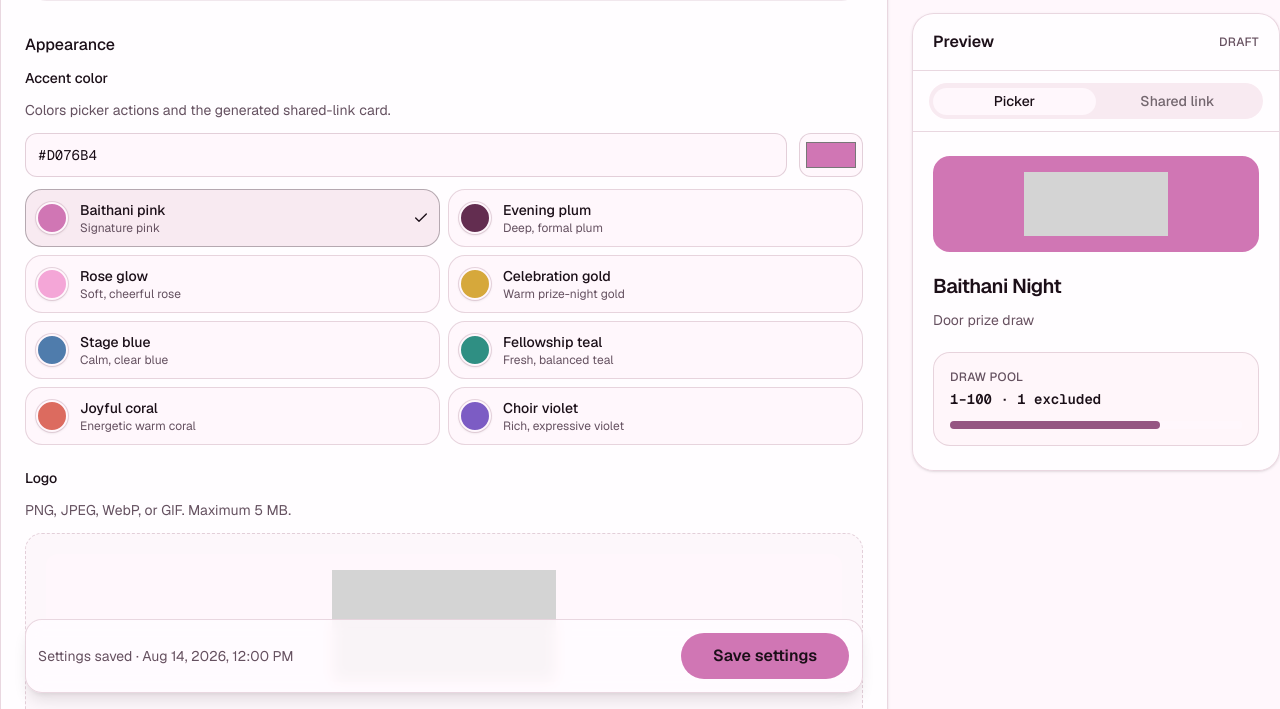
Scenario: SettingsForm appearance presets › offers named color advice and marks a selected preset as active
The image size is (1280, 709).
(page scrolled)
Expected: the text "Calm, clear blue" is shown, [80, 352, 168, 368]
Click the button with aria-label "Use Stage blue (#4f7cac) accent color" at [52, 350], box [25, 321, 440, 379]
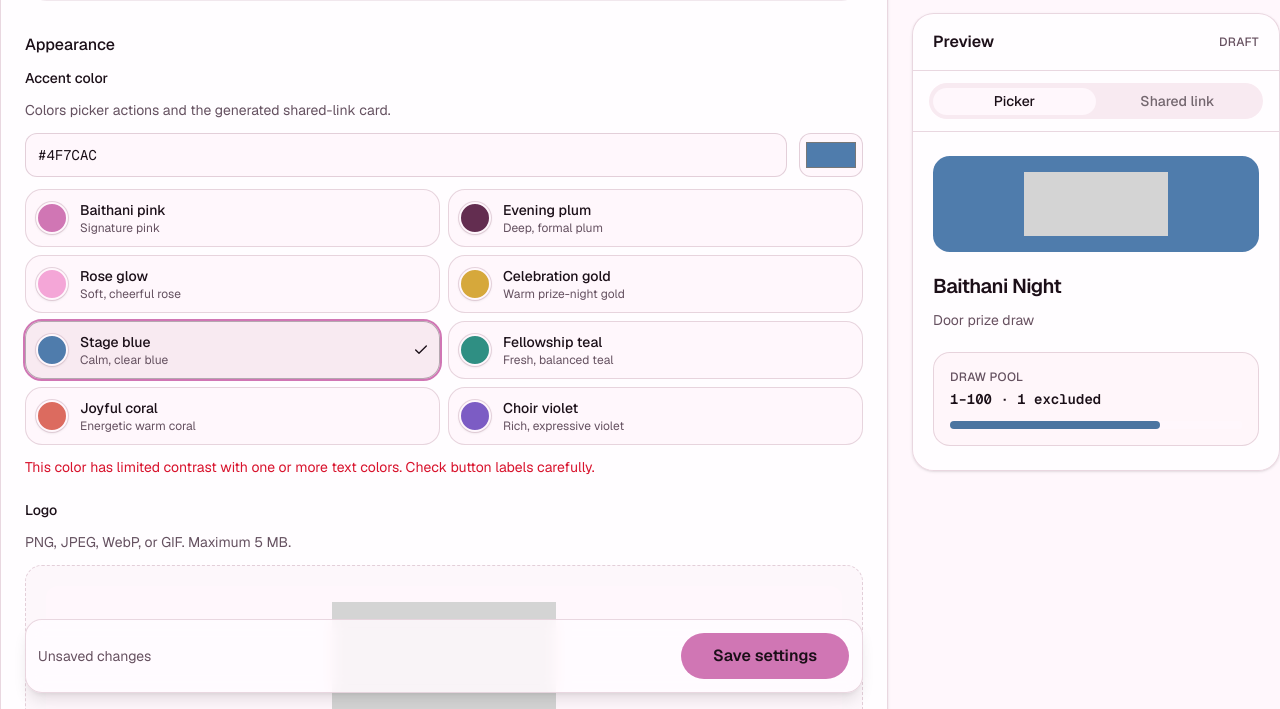
Expected: the field labelled "Accent color" holds "#4f7cac", [25, 133, 787, 177]
Expected: the text "Unsaved changes" is shown, [38, 646, 151, 666]
